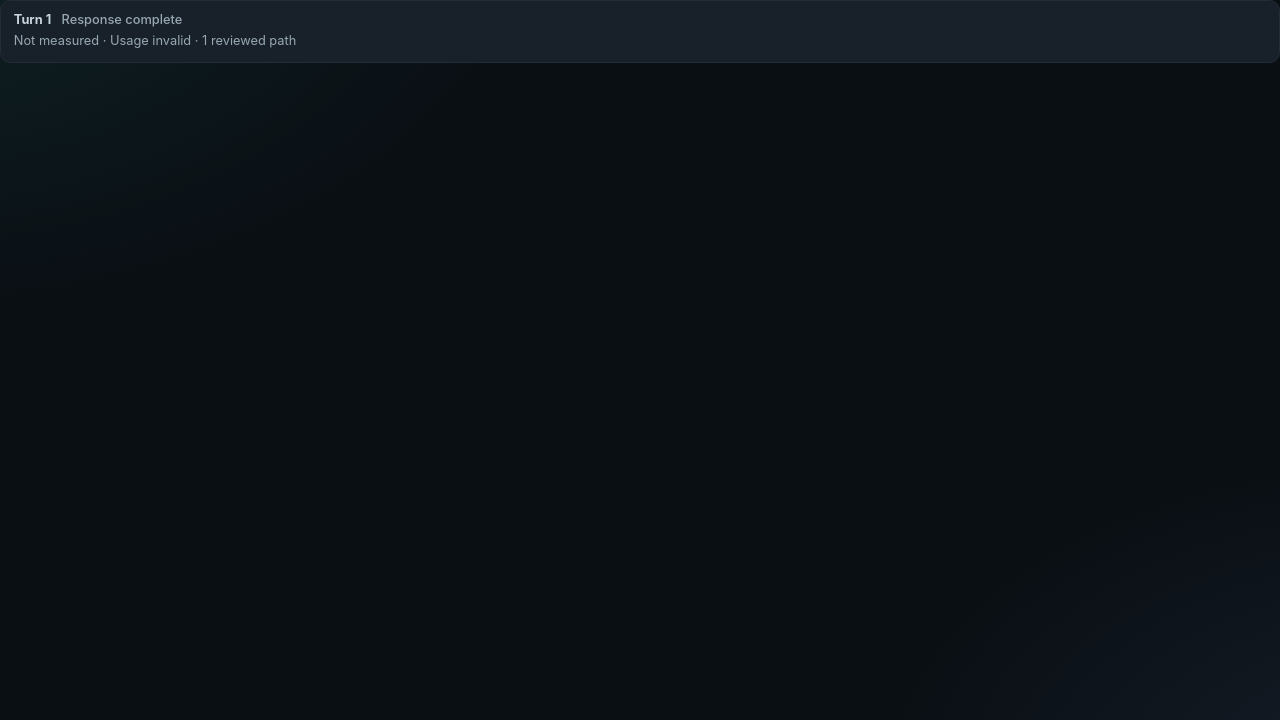
Scenario: AgentTurnDetails › never presents missing invalid counters as zero
Click the heading named "Turn 1 details": point(155, 30) [14, 12, 296, 48]
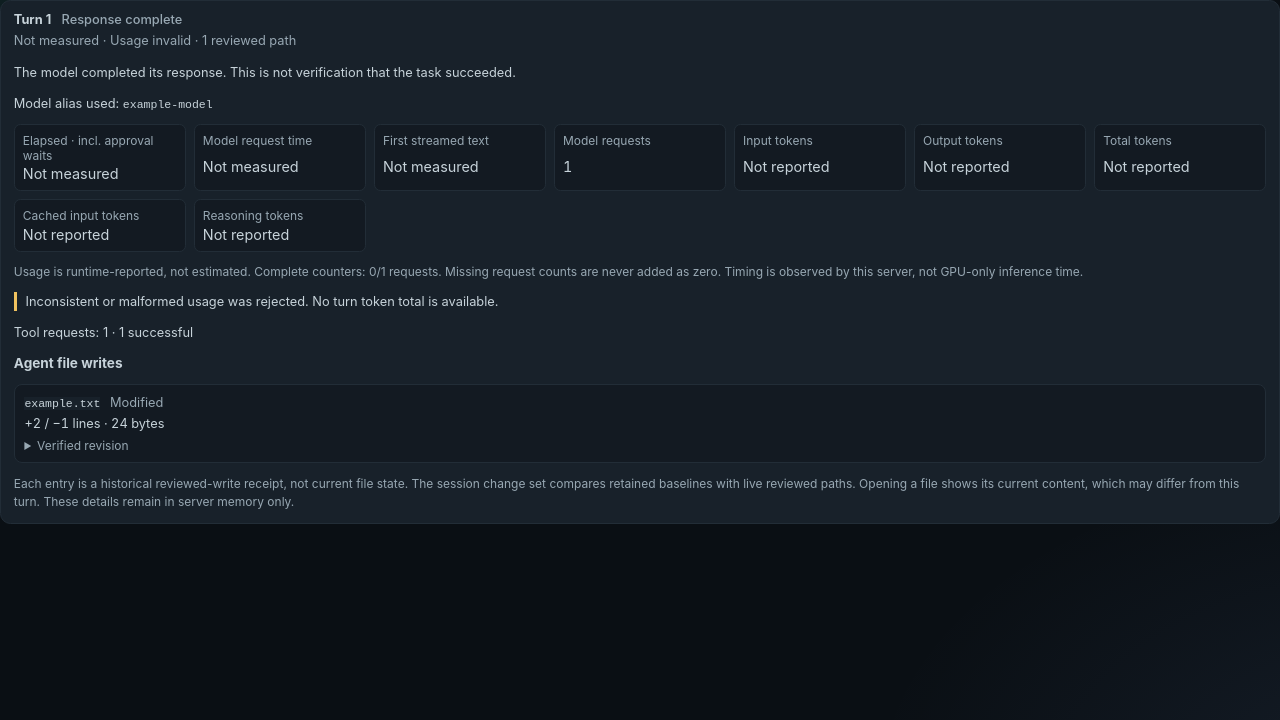
Result: the text "Not reported" is shown 5 times at [743, 158, 830, 175]; [923, 158, 1010, 175]; [1103, 158, 1190, 175]; [23, 226, 109, 243]; [203, 226, 289, 243]
Result: the text "Not measured" is shown 3 times at [23, 165, 119, 182]; [203, 158, 299, 175]; [383, 158, 479, 175]
Result: the text "No turn token total is available" is shown at [26, 294, 498, 309]
